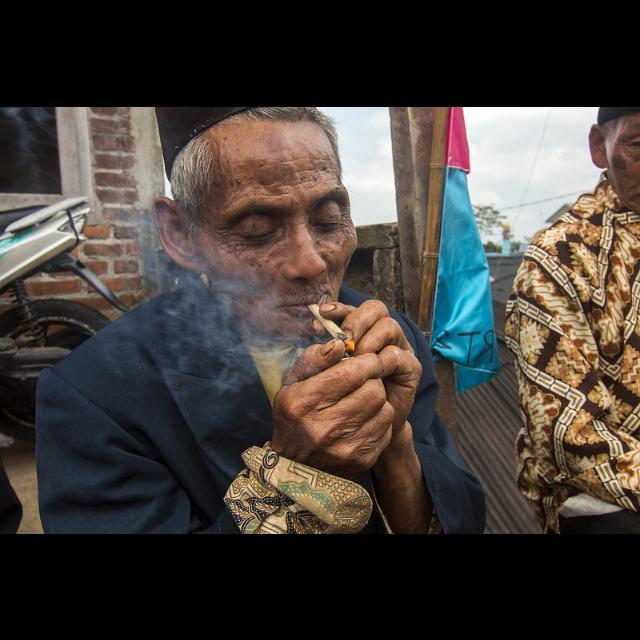rokok: (310, 301, 352, 344)
